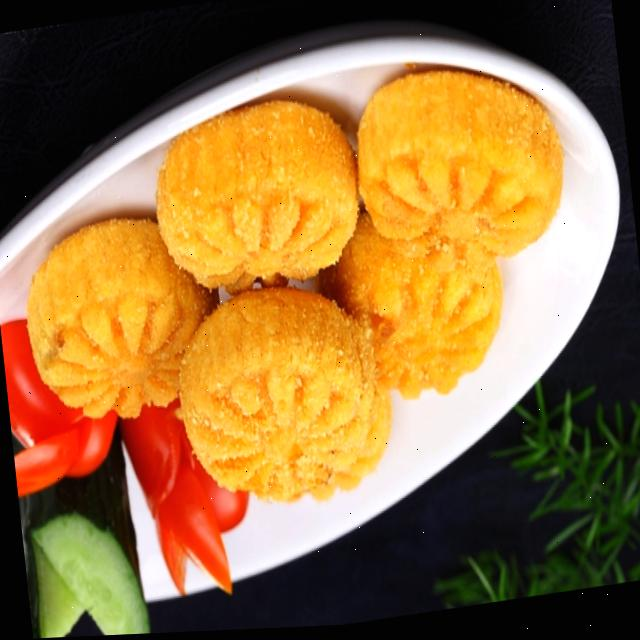炸货点心: (0, 19, 640, 640)
蛋糕甜品: (0, 19, 640, 640)
